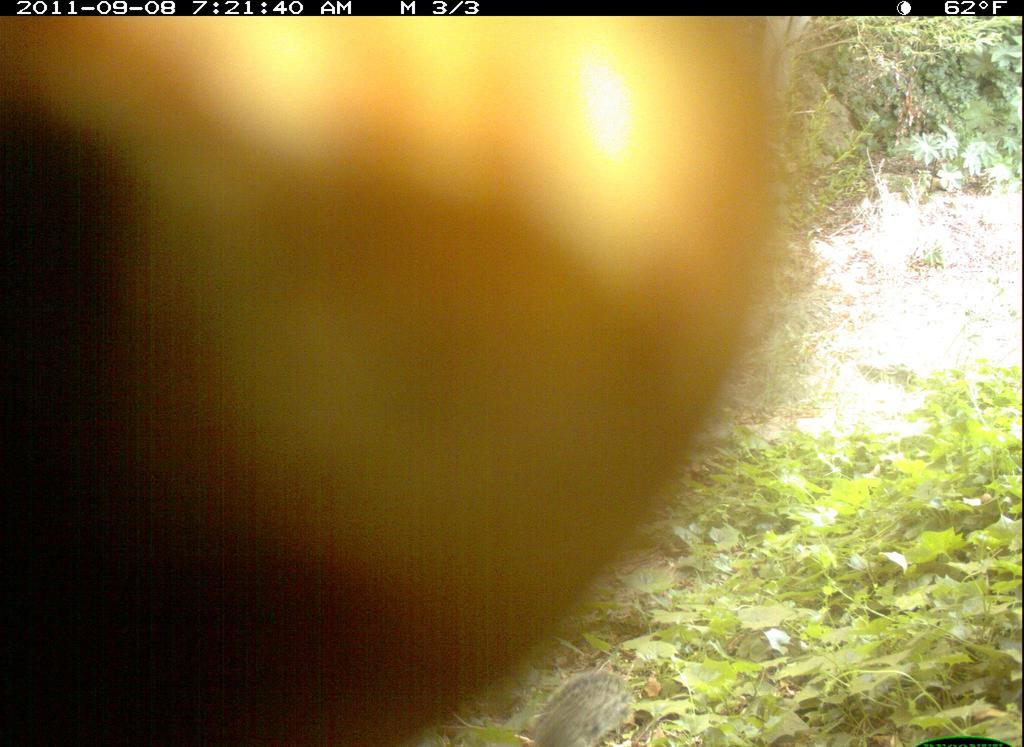squirrel: (515, 666, 655, 747)
